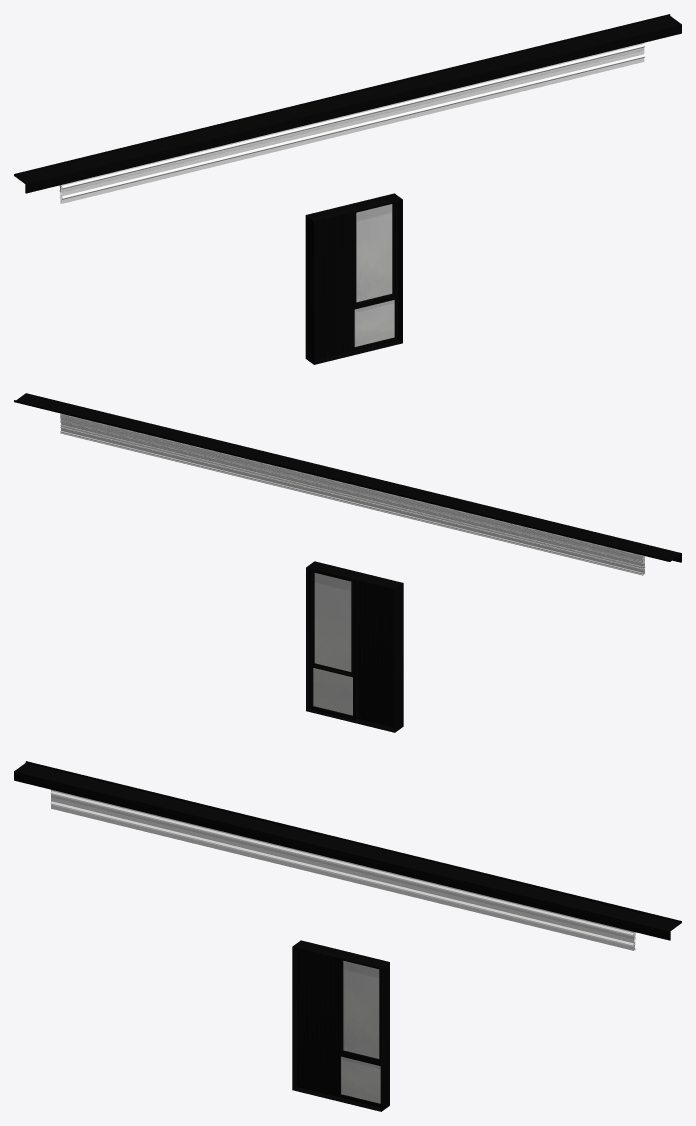
File: MatrixFachadaH copy.glb
The picture shows the model from 3 angles, top to bottom: view 1: azimuth 30°, elevation 25°; view 2: azimuth 150°, elevation 25°; view 3: azimuth 330°, elevation 25°; orthographic projection.
Parts seen in each view (by area): view 1: Box006, Ventana2, matriz2_j, Lamas2, matrix1_4, Marco2, matriz2_h, matriz2_l; view 2: Box006, Ventana2, Lamas2, matriz2_e, Marco2, matriz2_c, matrix1_4, matrix1_7, matriz2_j, matriz9_3, matriz2_n, matriz2_f (+4 smaller); view 3: Box006, Ventana2, Lamas2, matrix1_4, matriz2_j, Marco2, matriz2_h, matriz2_l, matriz2_n.
Boxes of the visible parts, left/top/right/bottom form: Box006: left=14, top=14, right=681, bottom=193; Ventana2: left=351, top=201, right=398, bottom=351; matriz2_j: left=60, top=50, right=644, bottom=203; Lamas2: left=315, top=212, right=351, bottom=360; matrix1_4: left=61, top=44, right=645, bottom=201; Marco2: left=305, top=193, right=402, bottom=364; matriz2_h: left=61, top=43, right=644, bottom=192; matriz2_l: left=60, top=52, right=639, bottom=197; Box006: left=14, top=393, right=681, bottom=562; Ventana2: left=309, top=568, right=358, bottom=720; Lamas2: left=358, top=580, right=394, bottom=727; matriz2_e: left=60, top=421, right=643, bottom=569; Marco2: left=306, top=561, right=403, bottom=732; matriz2_c: left=61, top=426, right=643, bottom=575; matrix1_4: left=60, top=422, right=645, bottom=574; matrix1_7: left=60, top=413, right=642, bottom=560; matriz2_j: left=60, top=421, right=644, bottom=575; matriz9_3: left=62, top=419, right=643, bottom=562; matriz2_n: left=60, top=420, right=644, bottom=567; matriz2_f: left=60, top=414, right=643, bottom=560; Box006: left=14, top=761, right=681, bottom=940; Ventana2: left=337, top=958, right=380, bottom=1107; Lamas2: left=297, top=948, right=337, bottom=1096; matrix1_4: left=50, top=791, right=635, bottom=949; matriz2_j: left=51, top=797, right=635, bottom=950; Marco2: left=292, top=940, right=389, bottom=1111; matriz2_h: left=51, top=789, right=633, bottom=939; matriz2_l: left=51, top=797, right=634, bottom=944; matriz2_n: left=54, top=799, right=635, bottom=942.
Bounding box in the file's own units: 9 × 3.25 × 0.4028.
Materials: 4 (1 with a texture image).
